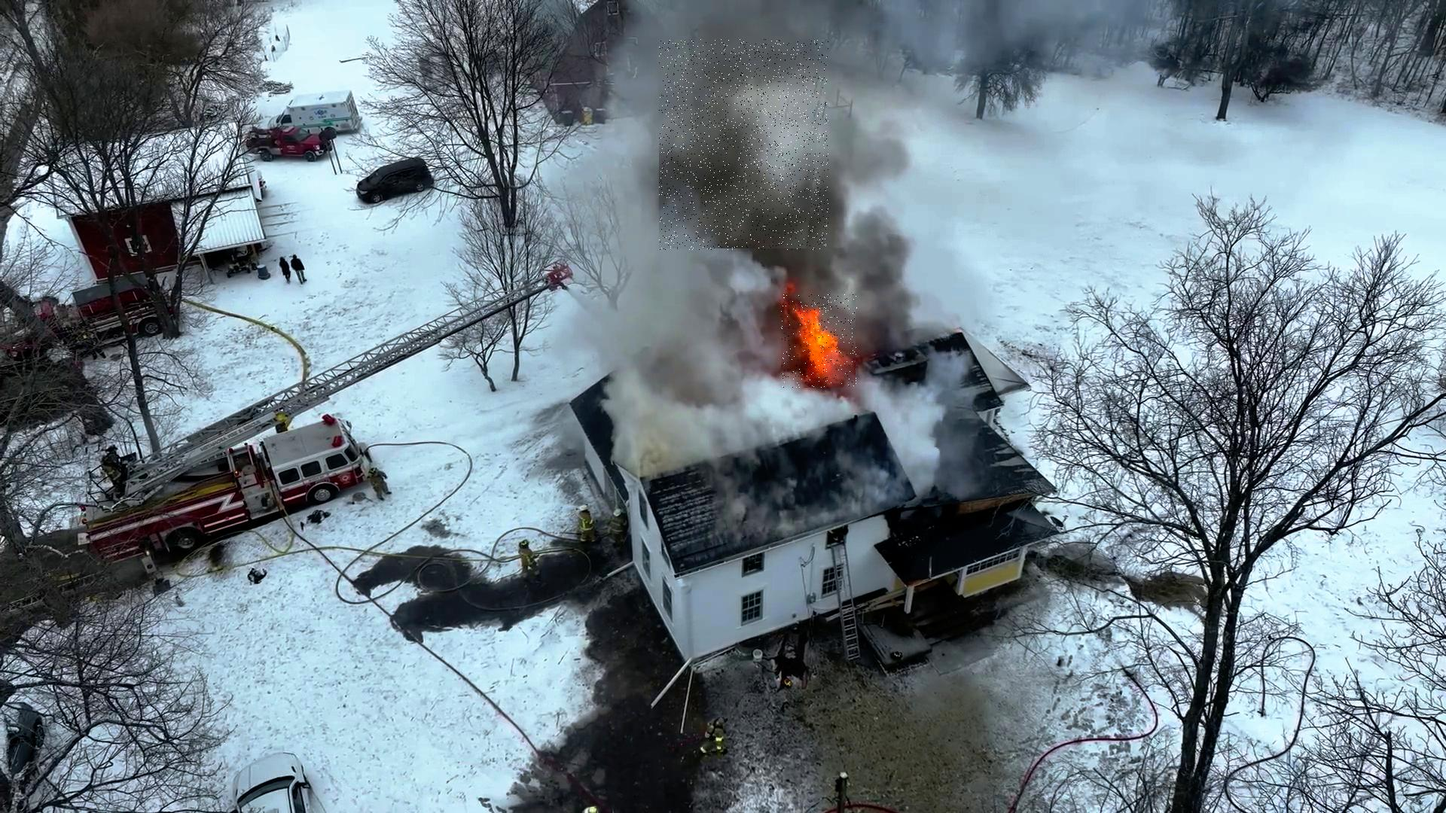fire: (782, 294, 858, 388)
smoke: (660, 40, 829, 251)
